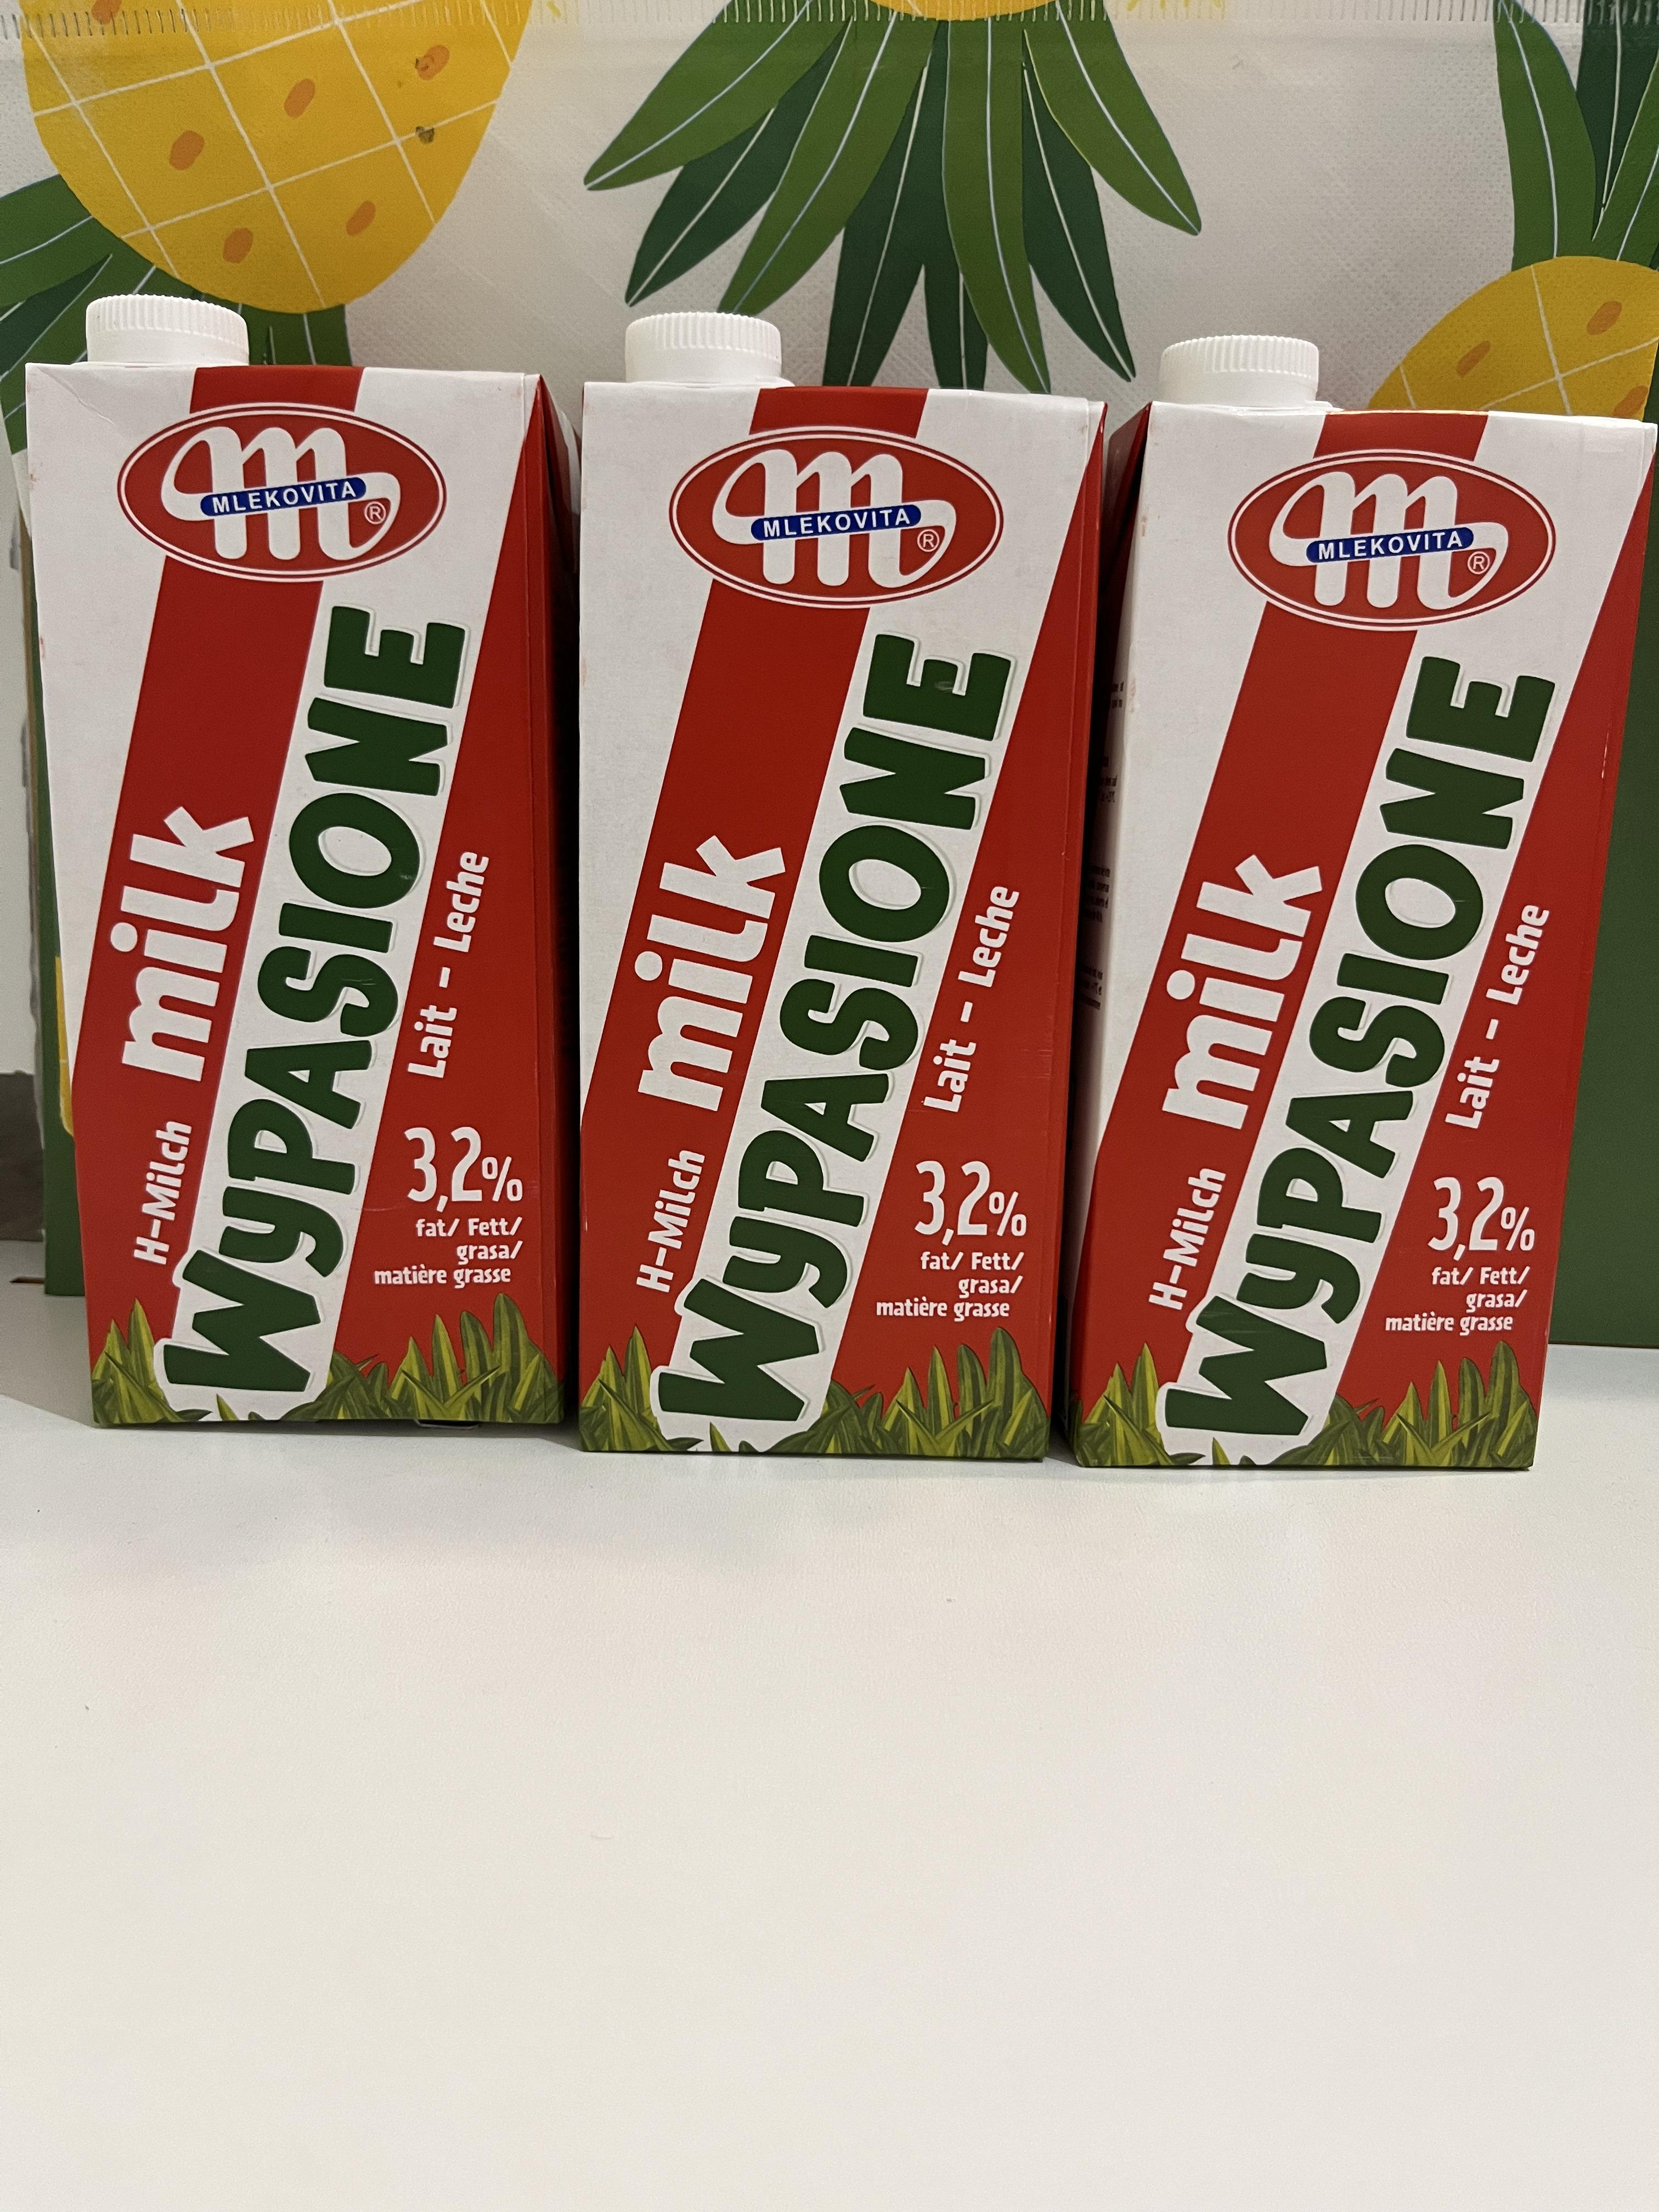Milk: (21, 348, 587, 1437), (580, 376, 1066, 1467), (1119, 399, 1560, 1480)
